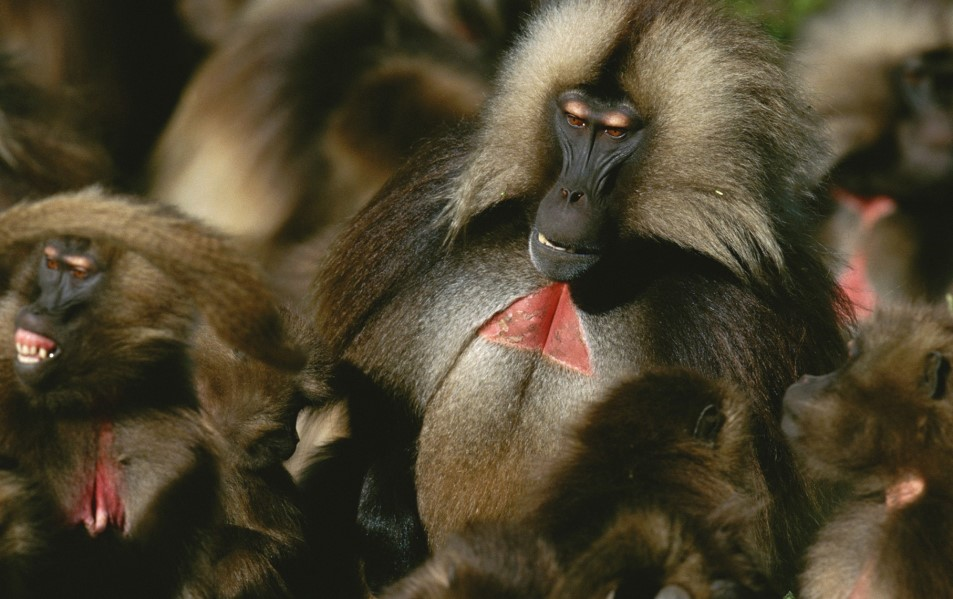Gelada: (391, 24, 767, 584), (5, 243, 160, 585), (785, 315, 953, 599)
